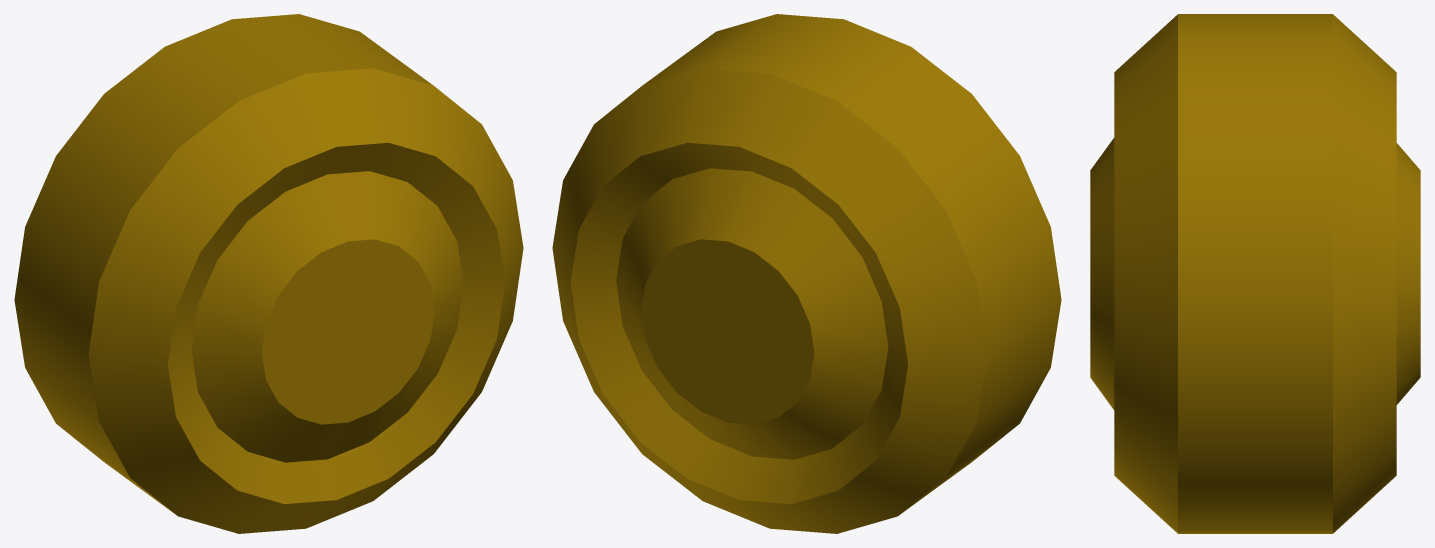
3 views of the same model, side by side, from view 1: azimuth 30°, elevation 25°; view 2: azimuth 150°, elevation 25°; view 3: azimuth 270°, elevation 25° (orthographic). The views are drawn at different scales.
Visible parts, largest first — view 1: pCylinder1; view 2: pCylinder1; view 3: pCylinder1.
Part boxes in pixels (box(x1,y1,x2,y2)): pCylinder1: box(14, 14, 523, 533); pCylinder1: box(552, 14, 1061, 533); pCylinder1: box(1090, 14, 1420, 533).
Bounding box in the file's own units: 2 × 2 × 1.26.
